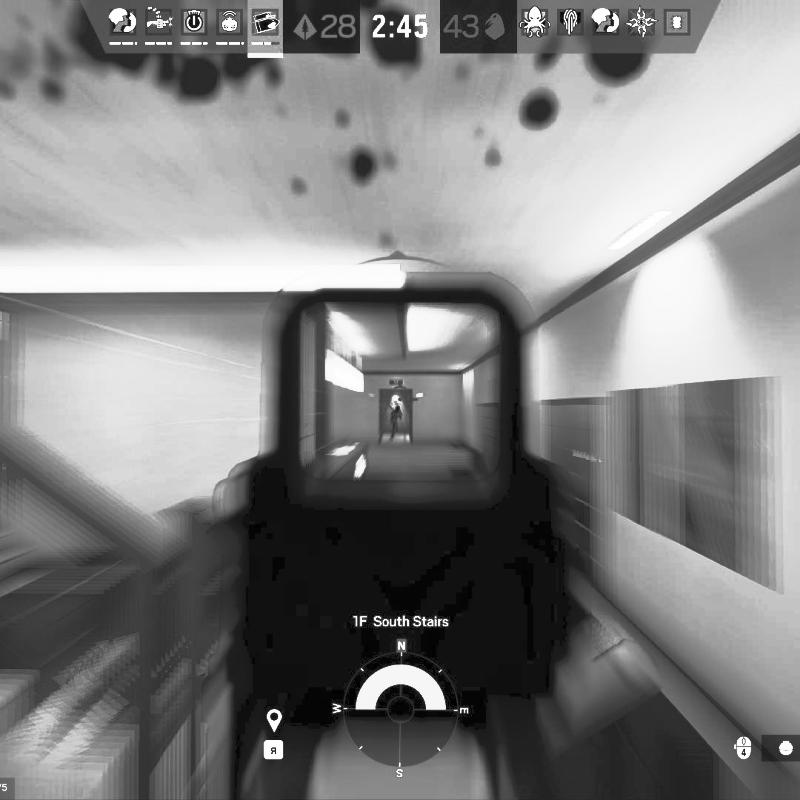Character: (389, 404, 403, 443)
Head: (396, 405, 400, 412)
